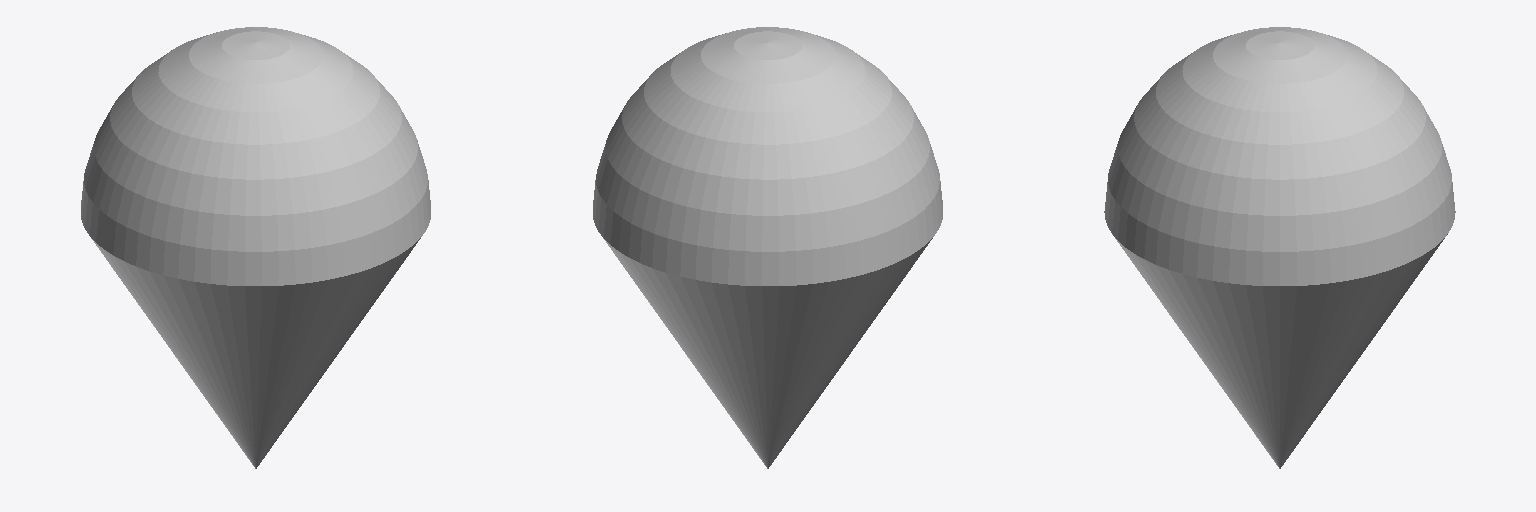
Rendered from sky.obj.
3 renders of one model, left to right at view 1: azimuth 30°, elevation 25°; view 2: azimuth 150°, elevation 25°; view 3: azimuth 270°, elevation 25°, orthographic.
Visible parts, largest first — view 1: Sphere; view 2: Sphere; view 3: Sphere.
Part boxes in pixels (left/top/right/bottom): Sphere: left=81, top=27, right=430, bottom=468; Sphere: left=593, top=27, right=942, bottom=468; Sphere: left=1104, top=27, right=1455, bottom=468.
Bounding box in the file's own units: 4000 × 5365 × 4000.